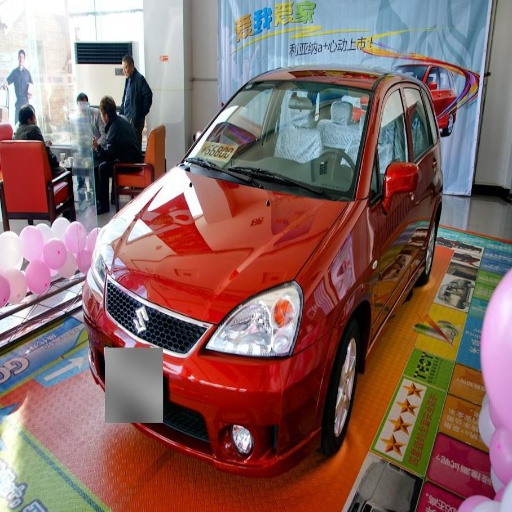front_bumper: (121, 304, 333, 475)
front_glass: (186, 78, 371, 199)
front_left_door: (369, 80, 412, 304)
